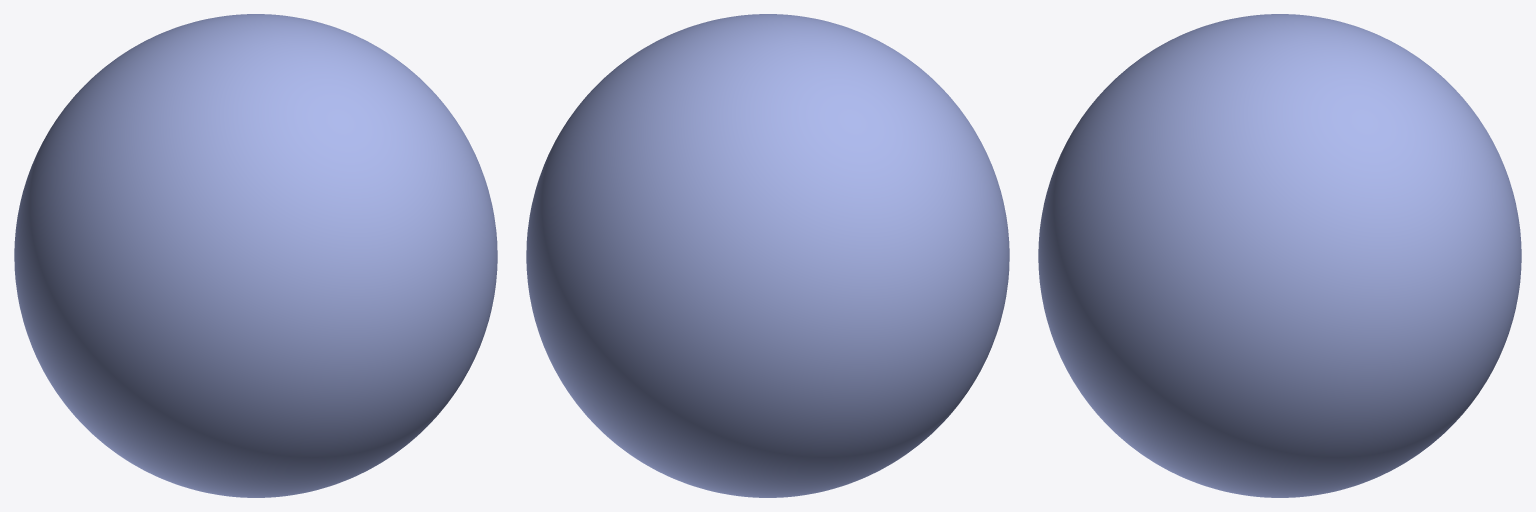
Rendered from planet.fbx.
3 renders of one model, left to right at view 1: azimuth 30°, elevation 25°; view 2: azimuth 150°, elevation 25°; view 3: azimuth 270°, elevation 25°, orthographic.
Visible parts, largest first — view 1: atmosphere; view 2: atmosphere; view 3: atmosphere.
Boxes of the visible parts, x1,y1,x2,y2 form: atmosphere: (14, 14, 497, 497); atmosphere: (526, 14, 1009, 497); atmosphere: (1038, 14, 1521, 497).
Size of the model in its own units: 205 by 206 by 205.
